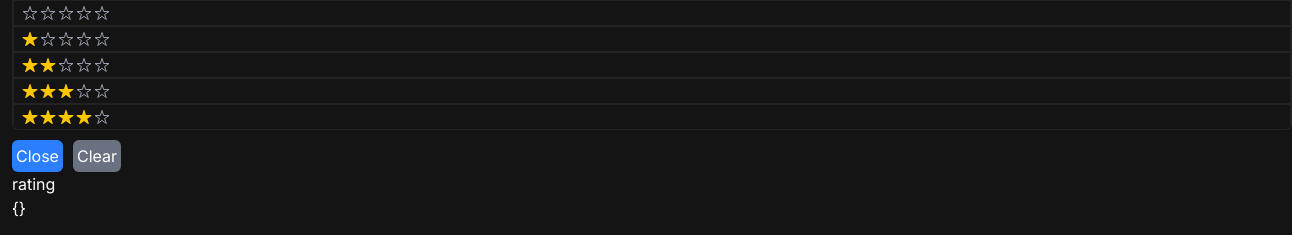
Test: RatingFilter › should add rating_min and rating_max when rating is selected
What coordinates should you click on to do the following:
click the list item named "Rating 3"
I would click on:
 (652, 91)
Its box is [13,78,1291,104].
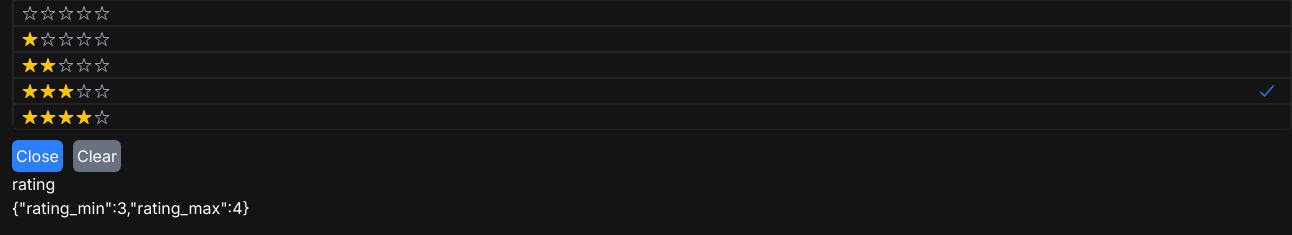
Expected: the text with test id "selected-filters" shows "\"rating_min\":3", [12,198,249,218]
Expected: the text with test id "selected-filters" shows "\"rating_max\":4", [12,198,249,218]
